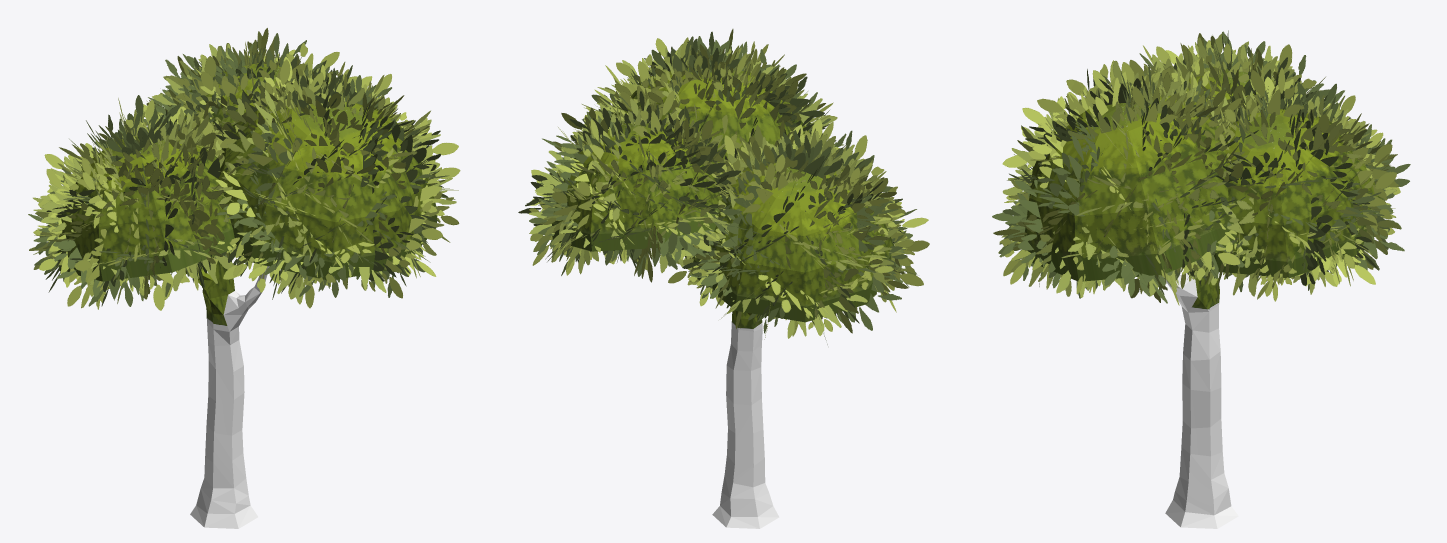
The model's file is Pohon 3 Foliage.fbx.
The picture shows the model from 3 angles, left to right: view 1: azimuth 30°, elevation 25°; view 2: azimuth 150°, elevation 25°; view 3: azimuth 270°, elevation 25°; orthographic projection. The views are drawn at different scales.
Parts seen in each view (by area): view 1: Leaf_1.001, Leaf_1.007, Pohon_3, Leaf_1.002, Leaf_1.001|Foliage 2|Dupli|170, Leaf_1.001|Foliage 2|Dupli|197, Leaf_1.001|Foliage 2|Dupli|17, Leaf_1.002|Foliage 2|Dupli|196, Leaf_1.007|Foliage 3|Dupli|229, Leaf_1.001|Foliage 2|Dupli|48, Leaf_1.007|Foliage 2|Dupli|242, Leaf_1.007|Foliage 2|Dupli|109 (+9 smaller); view 2: Leaf_1.007, Leaf_1.002, Pohon_3, Leaf_1.001, Leaf_1.002|Foliage 3|Dupli|222, Leaf_1.007|Foliage 3|Dupli|60, Leaf_1.007|Foliage 3|Dupli|105, Leaf_1.007|Foliage 2|Dupli|230, Leaf_1.007|Foliage 2|Dupli|237, Leaf_1.002|Foliage 2|Dupli|52, Leaf_1.001|Foliage 3|Dupli|147, Leaf_1.002|Foliage 3|Dupli|58 (+6 smaller); view 3: Leaf_1.001, Leaf_1.002, Pohon_3, Leaf_1.002|Foliage 2|Dupli|52, Leaf_1.002|Foliage 2|Dupli|158, Leaf_1.001|Foliage 2|Dupli|192, Leaf_1.001|Foliage 3|Dupli|18, Leaf_1.001|Foliage 3|Dupli|164, Leaf_1.001|Foliage 2|Dupli|152, Leaf_1.002|Foliage 2|Dupli|211, Leaf_1.001|Foliage 2|Dupli|48, Leaf_1.001|Foliage 2|Dupli|213 (+9 smaller).
Boxes of the visible parts, bbox=[...] form: Leaf_1.001: bbox=[218, 97, 437, 280]; Leaf_1.007: bbox=[57, 136, 234, 281]; Pohon_3: bbox=[185, 252, 268, 528]; Leaf_1.002: bbox=[184, 63, 280, 135]; Leaf_1.001|Foliage 2|Dupli|170: bbox=[412, 145, 460, 212]; Leaf_1.001|Foliage 2|Dupli|197: bbox=[235, 132, 300, 175]; Leaf_1.001|Foliage 2|Dupli|17: bbox=[399, 196, 442, 266]; Leaf_1.002|Foliage 2|Dupli|196: bbox=[183, 71, 248, 114]; Leaf_1.007|Foliage 3|Dupli|229: bbox=[54, 240, 108, 296]; Leaf_1.001|Foliage 2|Dupli|48: bbox=[295, 93, 362, 130]; Leaf_1.007|Foliage 2|Dupli|242: bbox=[119, 273, 189, 310]; Leaf_1.007|Foliage 2|Dupli|109: bbox=[74, 229, 108, 296]; Leaf_1.007: bbox=[692, 162, 894, 322]; Leaf_1.002: bbox=[552, 123, 724, 251]; Pohon_3: bbox=[712, 310, 779, 528]; Leaf_1.001: bbox=[610, 67, 808, 160]; Leaf_1.002|Foliage 3|Dupli|222: bbox=[626, 221, 690, 276]; Leaf_1.007|Foliage 3|Dupli|60: bbox=[775, 135, 842, 185]; Leaf_1.007|Foliage 3|Dupli|105: bbox=[837, 263, 901, 330]; Leaf_1.007|Foliage 2|Dupli|230: bbox=[742, 163, 799, 213]; Leaf_1.007|Foliage 2|Dupli|237: bbox=[881, 240, 923, 302]; Leaf_1.002|Foliage 2|Dupli|52: bbox=[632, 91, 683, 139]; Leaf_1.001|Foliage 3|Dupli|147: bbox=[648, 36, 711, 82]; Leaf_1.002|Foliage 3|Dupli|58: bbox=[675, 143, 740, 182]; Leaf_1.001: bbox=[1024, 94, 1237, 281]; Leaf_1.002: bbox=[1214, 108, 1382, 278]; Pohon_3: bbox=[1163, 268, 1238, 528]; Leaf_1.002|Foliage 2|Dupli|52: bbox=[1235, 70, 1304, 120]; Leaf_1.002|Foliage 2|Dupli|158: bbox=[1351, 158, 1396, 231]; Leaf_1.001|Foliage 2|Dupli|192: bbox=[1037, 80, 1104, 136]; Leaf_1.001|Foliage 3|Dupli|18: bbox=[1005, 180, 1046, 249]; Leaf_1.001|Foliage 3|Dupli|164: bbox=[1052, 135, 1089, 213]; Leaf_1.001|Foliage 2|Dupli|152: bbox=[1120, 86, 1177, 129]; Leaf_1.002|Foliage 2|Dupli|211: bbox=[1341, 139, 1398, 200]; Leaf_1.001|Foliage 2|Dupli|48: bbox=[1085, 70, 1133, 124]; Leaf_1.001|Foliage 2|Dupli|213: bbox=[1182, 230, 1240, 280].
Bounding box in the file's own units: 7215 × 7977 × 6695.
